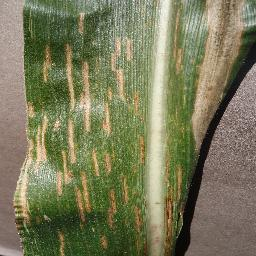Gray_Leaf_Spot: (194, 0, 246, 138), (157, 162, 195, 256), (3, 169, 40, 236), (109, 28, 134, 106), (166, 10, 194, 78), (60, 38, 77, 142), (21, 112, 53, 160), (78, 61, 98, 131), (103, 169, 125, 229), (93, 83, 120, 130), (50, 153, 79, 196), (71, 179, 95, 221), (38, 38, 62, 76), (137, 200, 153, 250), (123, 91, 145, 126), (88, 144, 112, 175), (132, 132, 149, 170), (50, 228, 72, 256), (24, 8, 38, 42), (74, 6, 88, 34), (96, 233, 115, 252), (36, 214, 54, 230)
